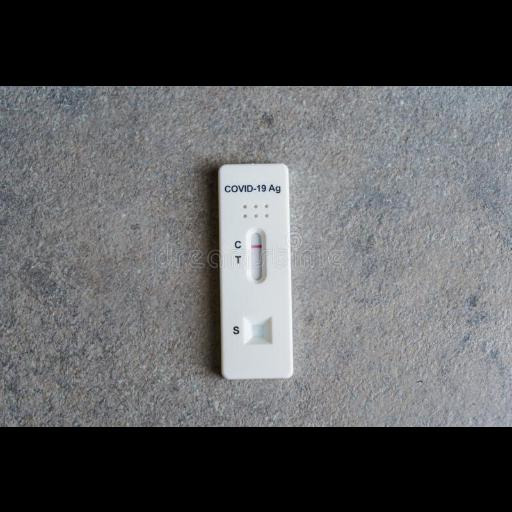Neg: (222, 163, 288, 377)
